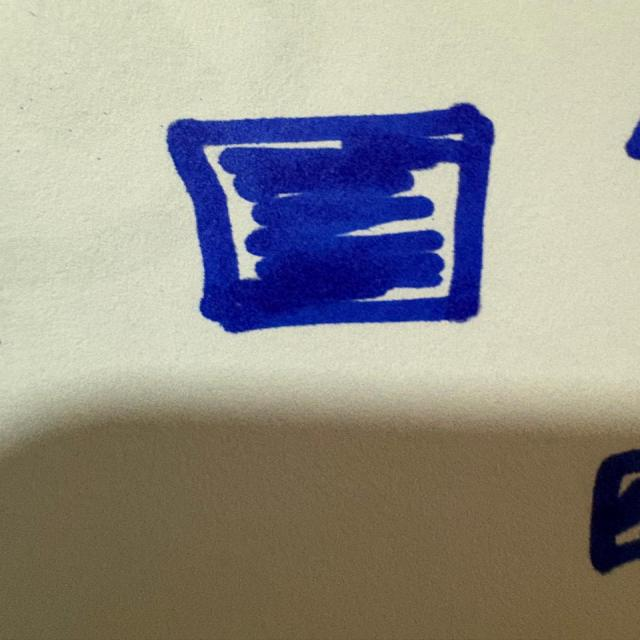Square: (161, 100, 503, 334)
